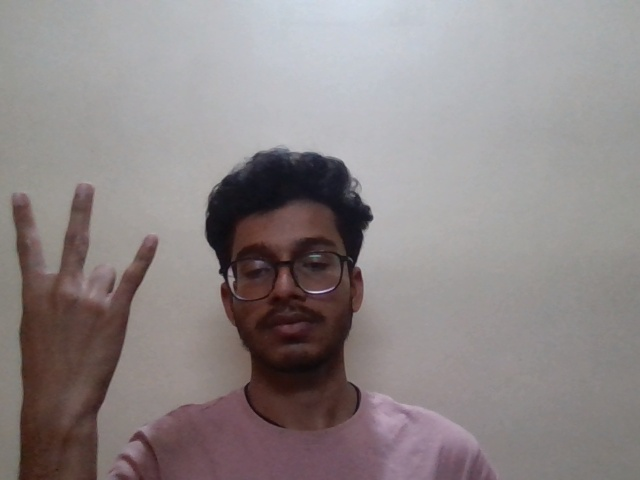why: (3, 183, 176, 401)
